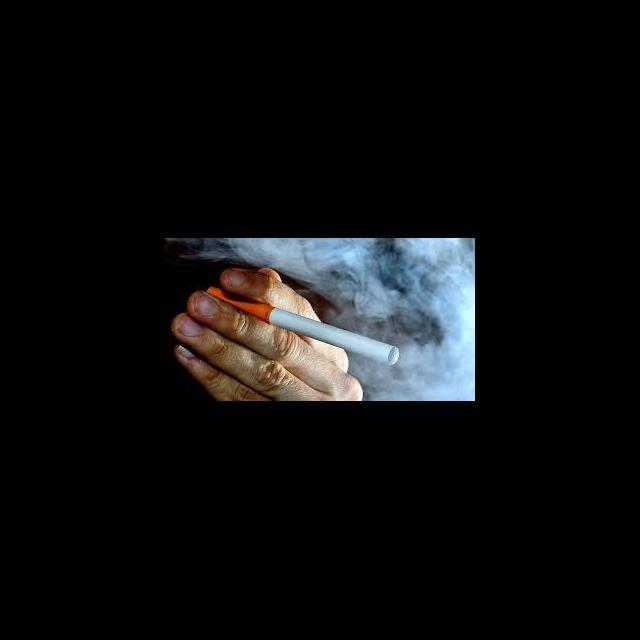Smoke: (232, 238, 474, 398)
